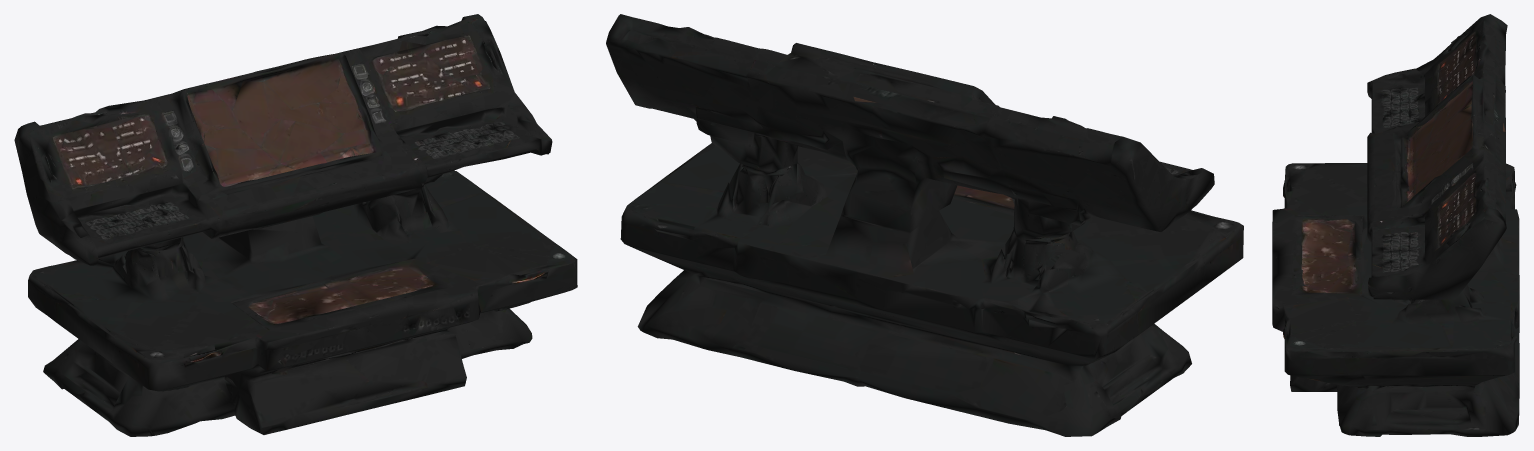
File: bermuda-red-room-console.glb
3 renders of one model, left to right at view 1: azimuth 30°, elevation 25°; view 2: azimuth 150°, elevation 25°; view 3: azimuth 270°, elevation 25°, orthographic. The views are drawn at different scales.
Bounding box in the file's own units: 1.9 × 1.03 × 0.971.
Materials: 1 (1 with a texture image).
